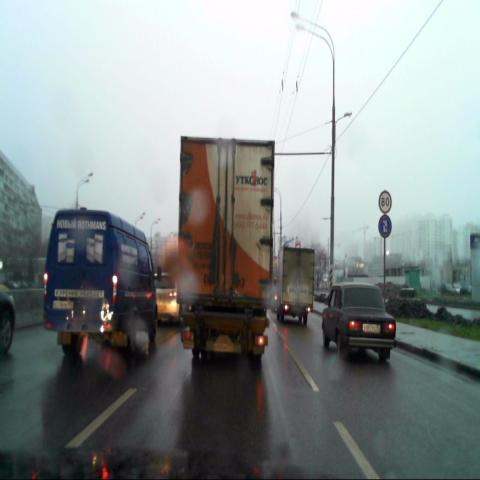3_30: (378, 215, 392, 237)
